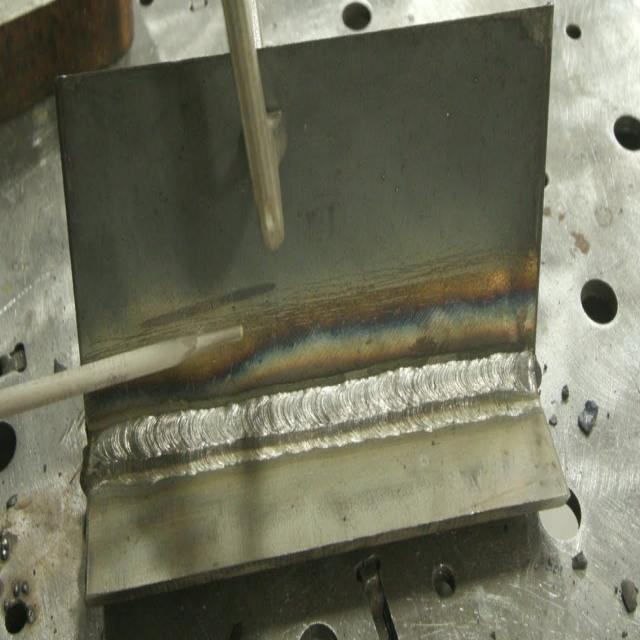Good Weld: (79, 348, 544, 498)
